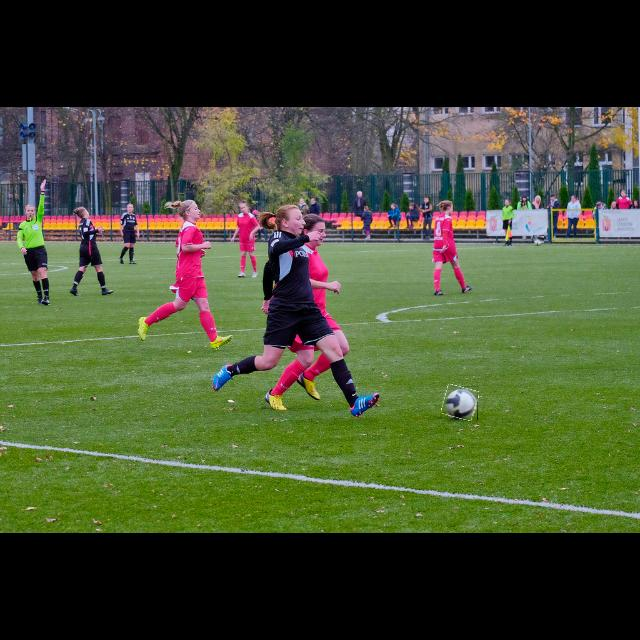Football: (442, 386, 478, 420), (532, 235, 544, 243)
